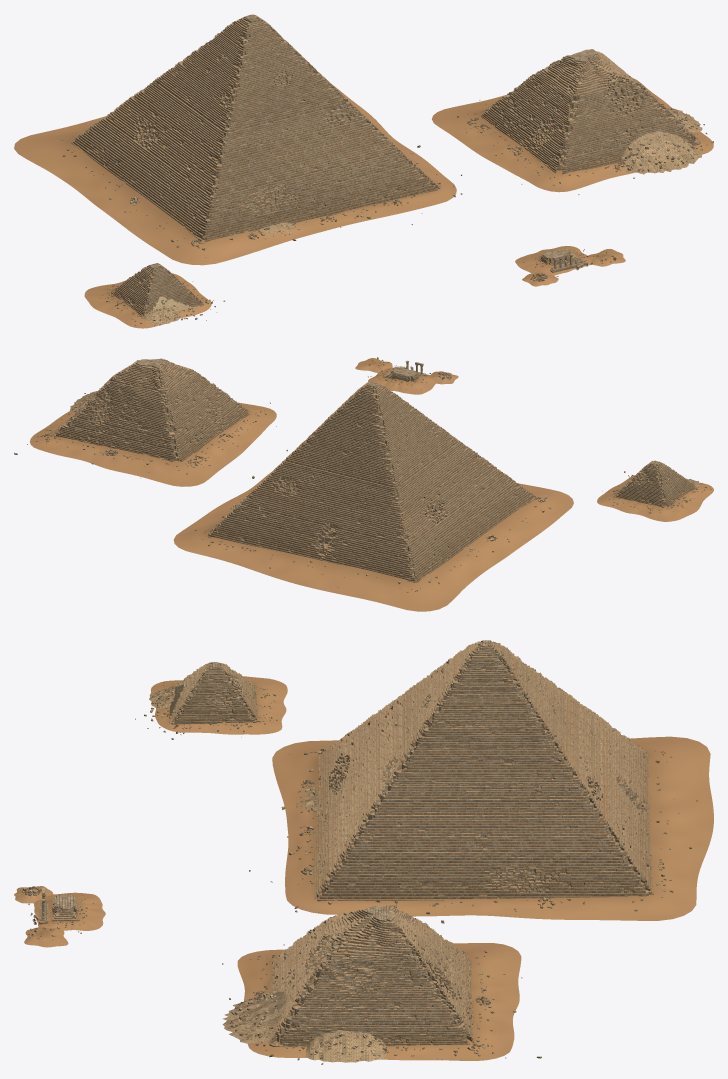
The model's file is pyramids.glb.
3 views of the same model, one above another, from view 1: azimuth 30°, elevation 25°; view 2: azimuth 150°, elevation 25°; view 3: azimuth 270°, elevation 25° (orthographic). The views are drawn at different scales.
Visible parts, largest first — view 1: pyramid_great_mesh, pyramid_medium_mesh, pyramid_small_mesh, temple_ruin_mesh; view 2: pyramid_great_mesh, pyramid_medium_mesh, pyramid_small_mesh, temple_ruin_mesh; view 3: pyramid_great_mesh, pyramid_medium_mesh, pyramid_small_mesh, temple_ruin_mesh, column_drums_mesh.
Boxes of the visible parts, <box> form: pyramid_great_mesh: <box>14,14,462,265</box>; pyramid_medium_mesh: <box>432,49,713,194</box>; pyramid_small_mesh: <box>84,263,224,328</box>; temple_ruin_mesh: <box>515,246,592,276</box>; pyramid_great_mesh: <box>173,381,573,611</box>; pyramid_medium_mesh: <box>14,358,276,486</box>; pyramid_small_mesh: <box>597,460,713,521</box>; temple_ruin_mesh: <box>368,360,435,394</box>; pyramid_great_mesh: <box>249,640,713,923</box>; pyramid_medium_mesh: <box>222,905,541,1064</box>; pyramid_small_mesh: <box>135,662,287,739</box>; temple_ruin_mesh: <box>28,888,105,933</box>; column_drums_mesh: <box>24,927,68,947</box>.
Bounding box in the file's own units: 612 × 140 × 466.
Materials: 2 (1 with a texture image).
